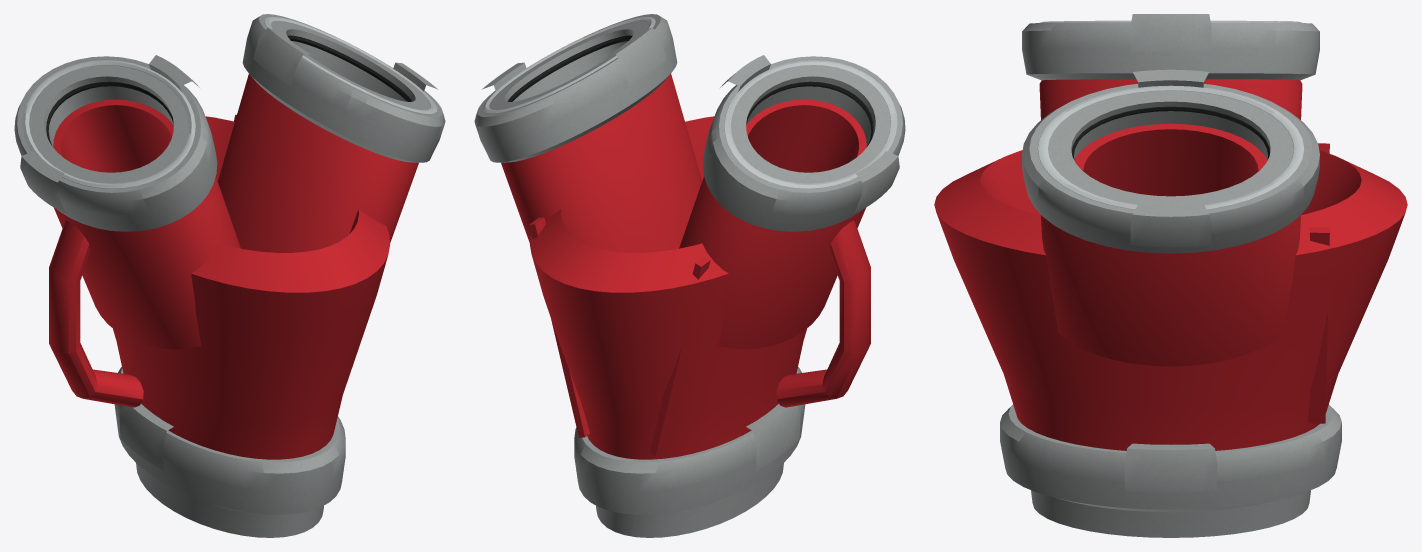
Rendered from ob_collecting_breeching.glb.
3 views of the same model, side by side, from view 1: azimuth 30°, elevation 25°; view 2: azimuth 150°, elevation 25°; view 3: azimuth 270°, elevation 25° (orthographic). The views are drawn at different scales.
Visible parts, largest first — view 1: ob_collecting_breeching; view 2: ob_collecting_breeching; view 3: ob_collecting_breeching.
Boxes of the visible parts, x1=… form: ob_collecting_breeching: x1=14, y1=14, x2=445, y2=537; ob_collecting_breeching: x1=474, y1=14, x2=905, y2=537; ob_collecting_breeching: x1=934, y1=14, x2=1407, y2=537.
Size of the model in its own units: 0.4 by 0.43 by 0.4.
Materials: 4 (3 with a texture image).
